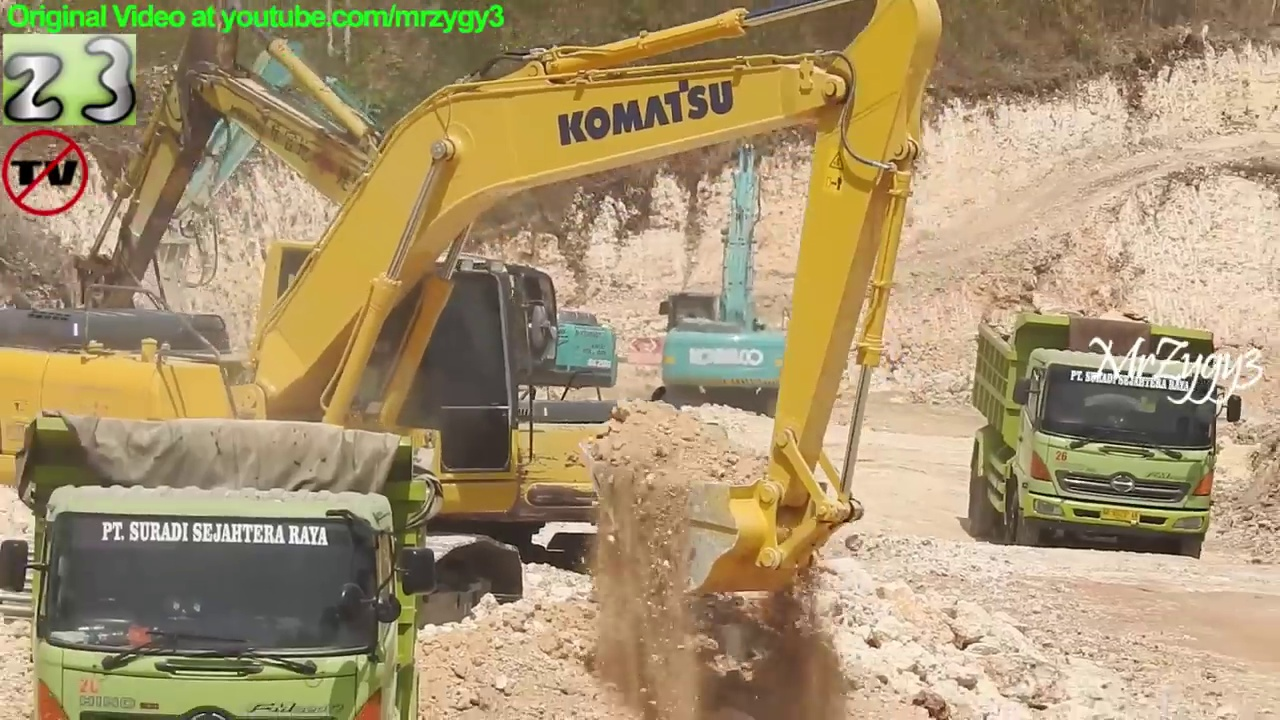excavator: (2, 2, 953, 661), (26, 3, 713, 590), (127, 37, 650, 502), (634, 85, 841, 430)
truck: (3, 412, 444, 720), (964, 306, 1248, 562)
